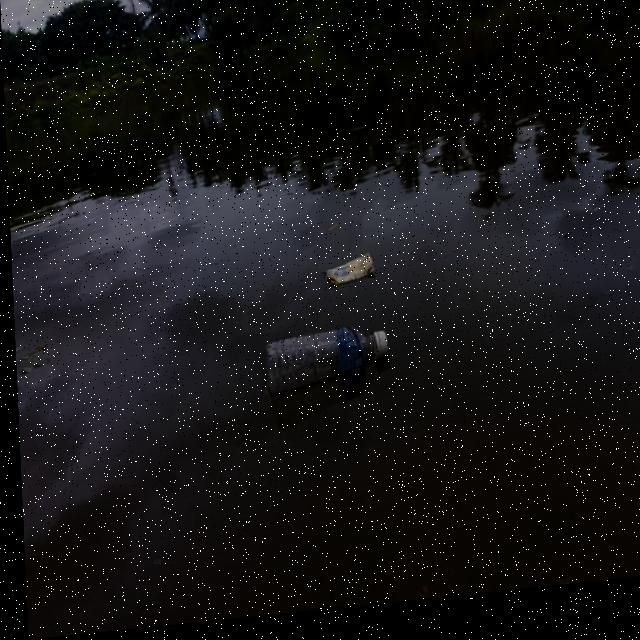paper: (314, 255, 375, 306)
waterbottle: (236, 321, 403, 413)
